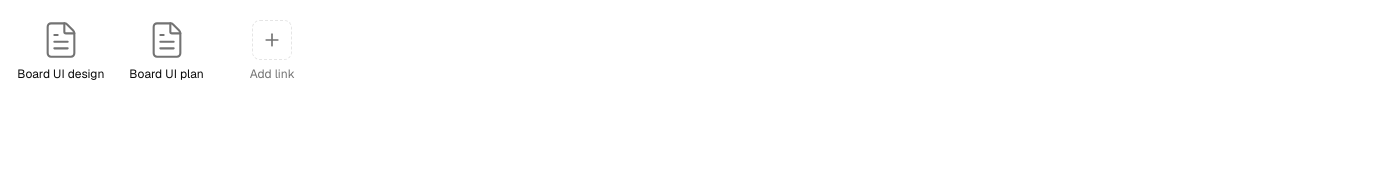
Test: Files returns from the document to the grid
Click the button "Board UI plan" at (167, 51), box [118,12,215,90]
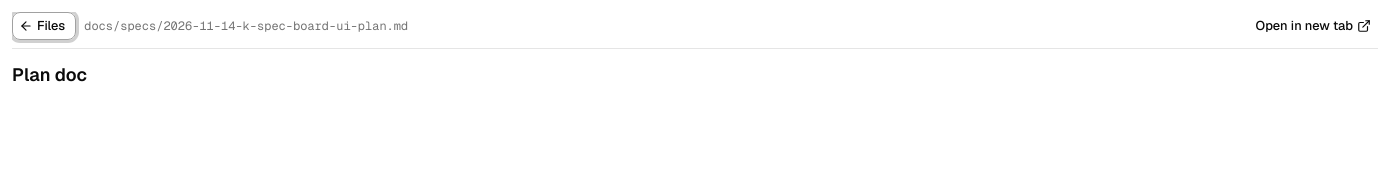
Click the button "Files" at (44, 26), box [12,12,76,40]
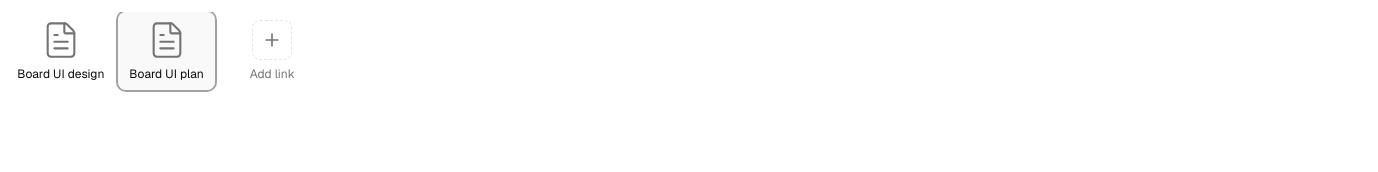
Expected: the button "Board UI design" is shown, [12,12,110,90]
Expected: the heading "Plan doc" is gone
